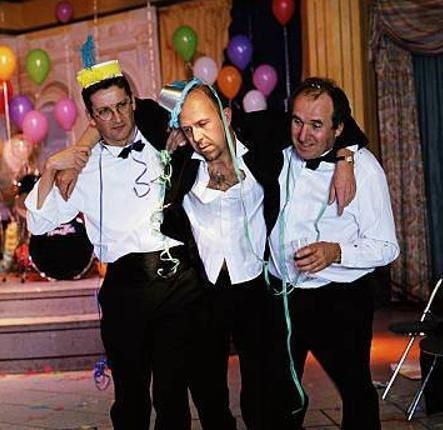Drunk: (181, 102, 228, 158), (292, 98, 332, 154), (93, 89, 136, 138)
